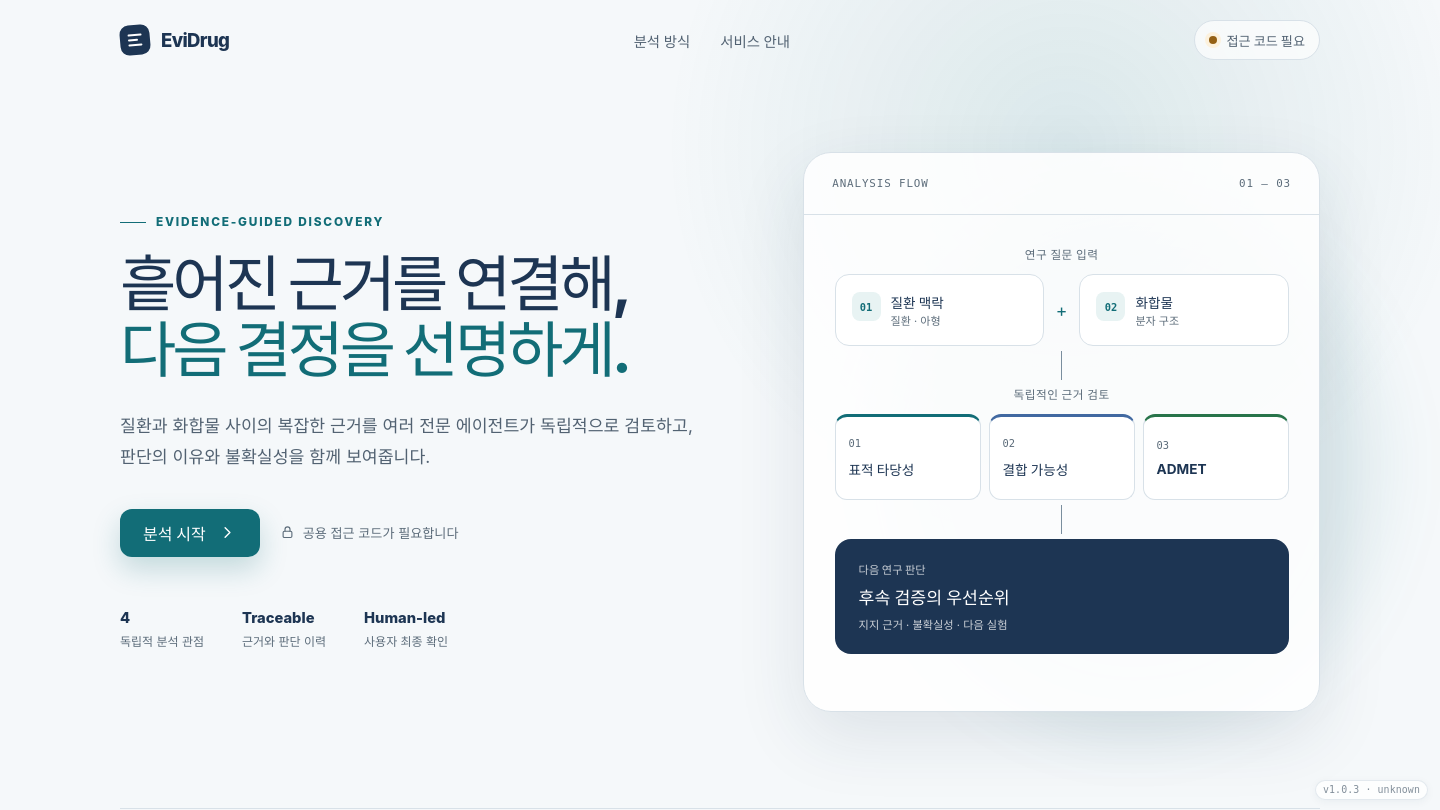
Scenario: App authentication flow › shows when the attempt limit can be retried
The image size is (1440, 810).
Click the button "분석 시작".
click(190, 533)  # box x1=120 y1=509 x2=260 y2=557
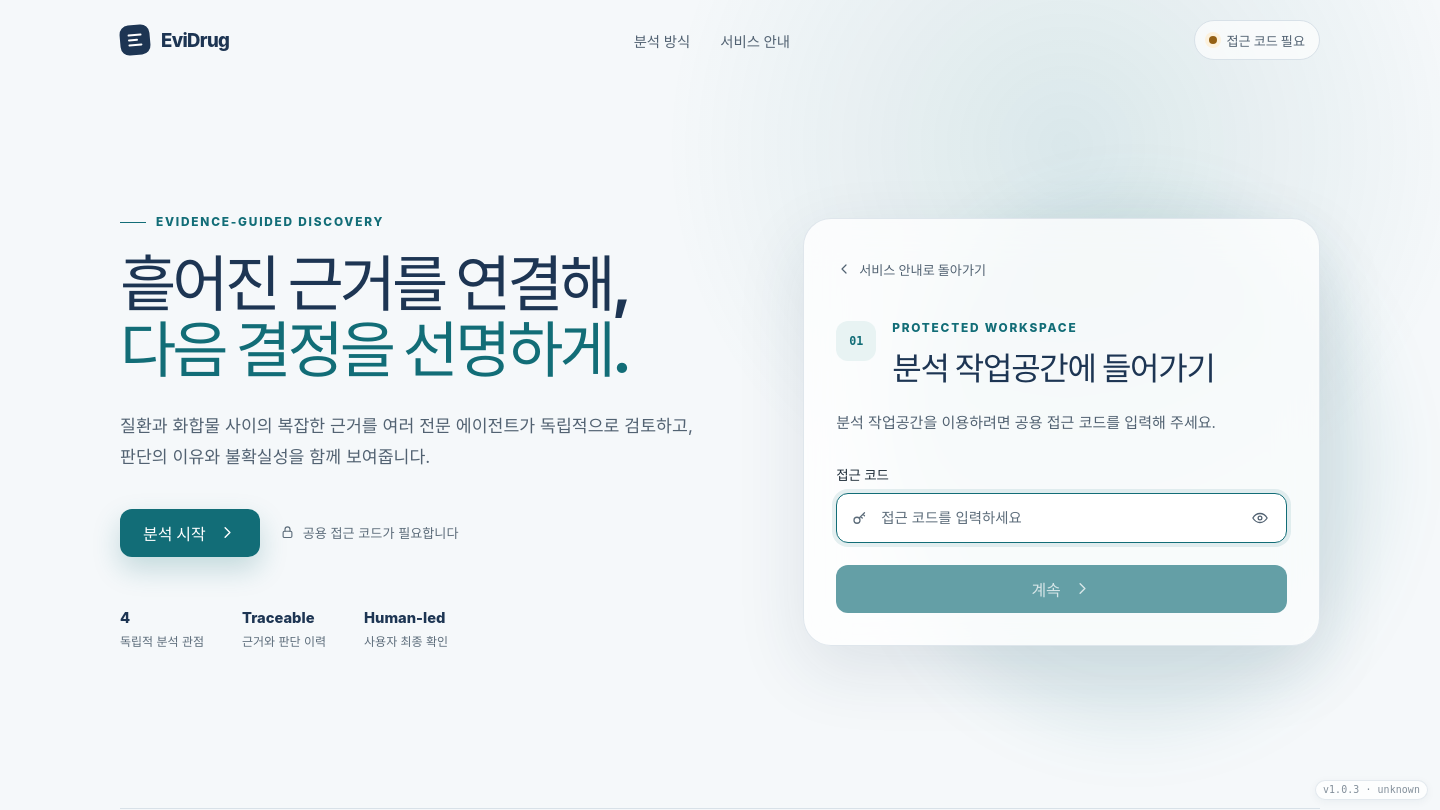
Type "retry-code" into the password field labelled "접근 코드".
click(1056, 518); type("retry-code")  # box x1=879 y1=494 x2=1232 y2=542
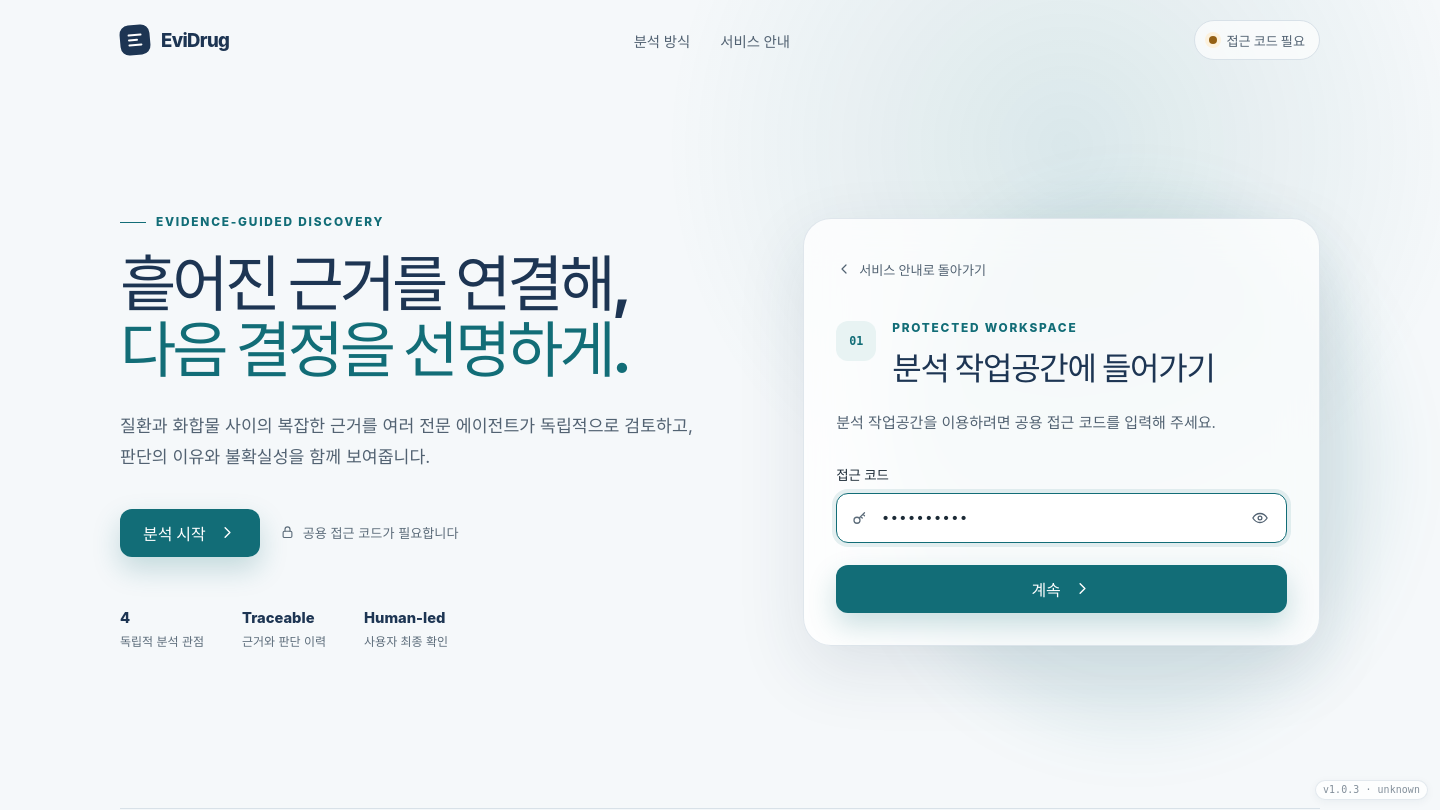
Click the button "계속".
click(1062, 589)  # box x1=836 y1=565 x2=1287 y2=613
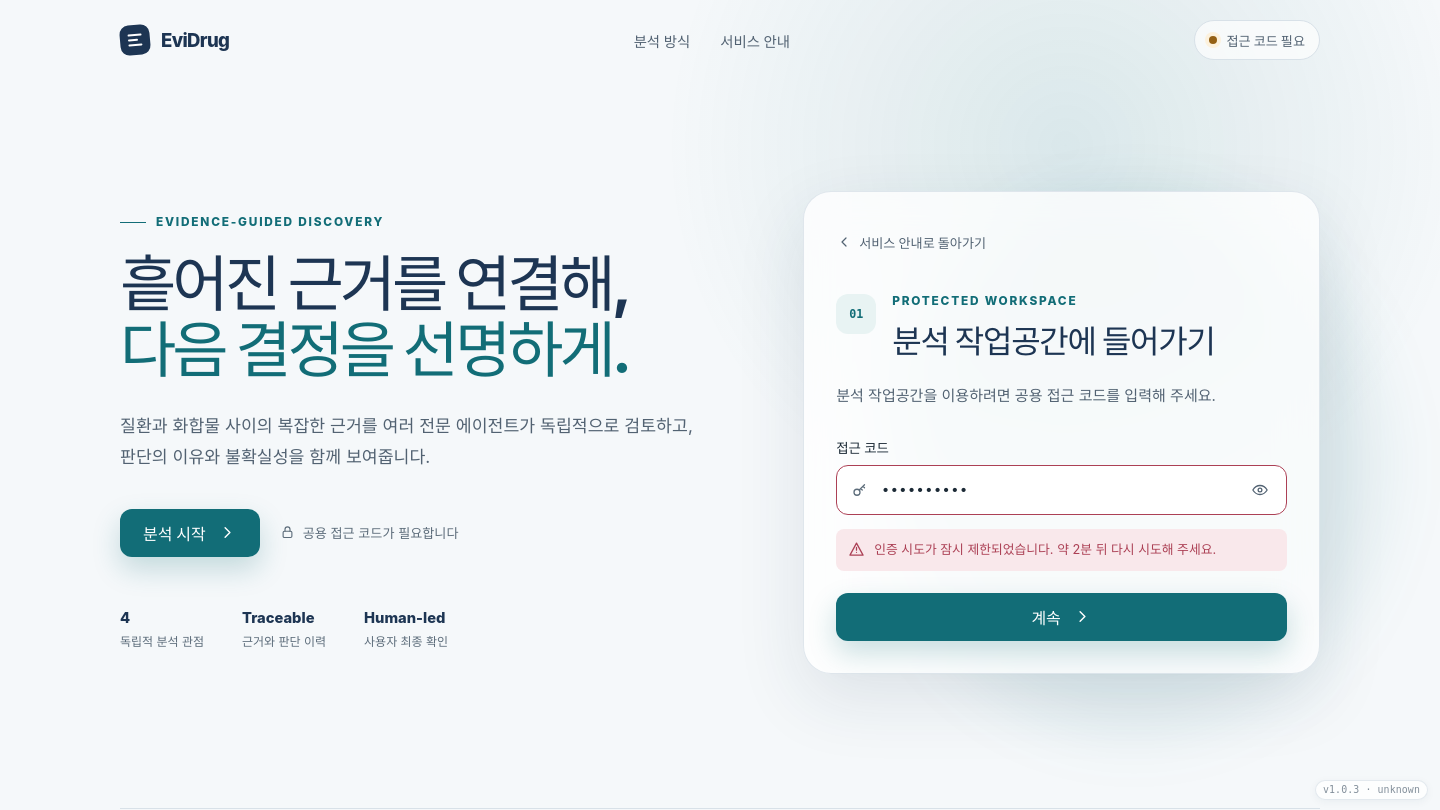
Expected: the text "인증 시도가 잠시 제한되었습니다. 약 2분 뒤 다시 시도해 주세요." is shown, x1=874 y1=540 x2=1216 y2=560
